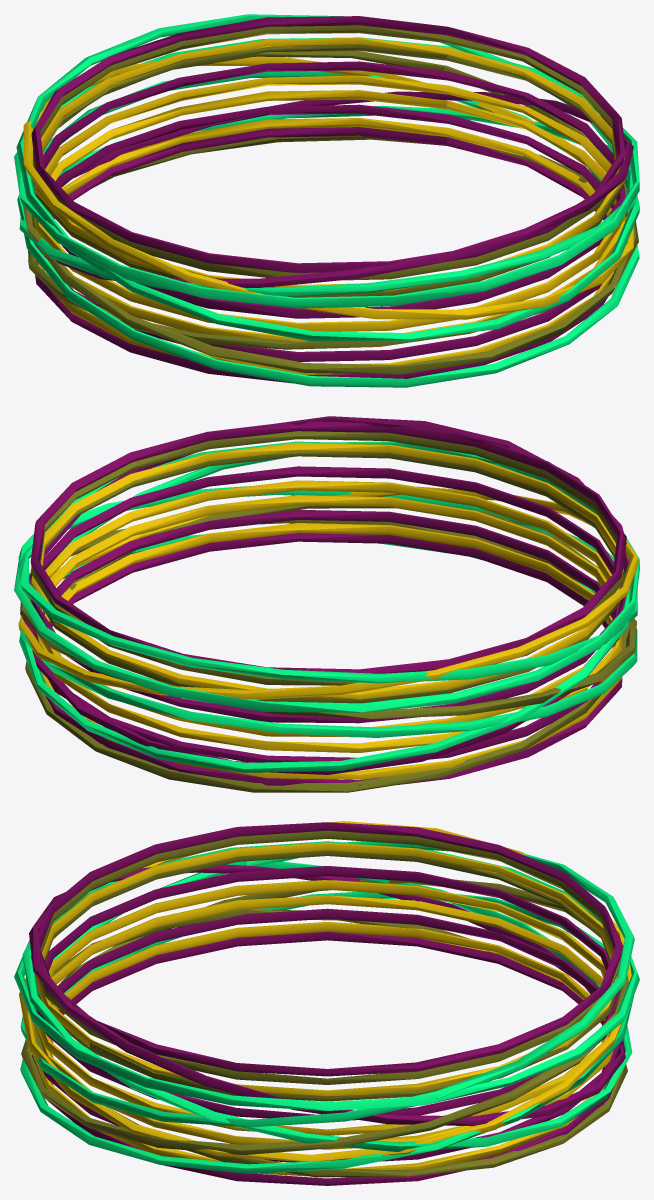
Rendered from shield_1.obj.
3 views of the same model, one above another, from view 1: azimuth 30°, elevation 25°; view 2: azimuth 150°, elevation 25°; view 3: azimuth 270°, elevation 25° (orthographic).
Visible parts, largest first — view 1: pTorus1, pTorus8, pTorus5, pTorus18, pTorus9, pTorus12, pTorus16, pTorus11, pTorus2, pTorus10, pTorus13, pTorus6 (+6 smaller); view 2: pTorus1, pTorus10, pTorus18, pTorus17, pTorus12, pTorus5, pTorus13, pTorus7, pTorus14, pTorus16, pTorus8, pTorus15 (+6 smaller); view 3: pTorus1, pTorus8, pTorus18, pTorus2, pTorus17, pTorus5, pTorus10, pTorus14, pTorus16, pTorus13, pTorus9, pTorus3 (+6 smaller).
Part boxes in pixels (box(x1,y1,x2,y2)): pTorus1: box(31, 16, 625, 273); pTorus8: box(34, 75, 625, 331); pTorus5: box(16, 14, 639, 341); pTorus18: box(33, 61, 625, 318); pTorus9: box(23, 50, 638, 374); pTorus12: box(35, 104, 613, 361); pTorus16: box(14, 37, 639, 308); pTorus11: box(17, 71, 639, 387); pTorus2: box(33, 25, 624, 280); pTorus10: box(50, 90, 624, 341); pTorus13: box(35, 127, 607, 383); pTorus6: box(23, 56, 633, 319); pTorus1: box(30, 421, 626, 673); pTorus10: box(37, 495, 622, 752); pTorus18: box(31, 466, 623, 723); pTorus17: box(31, 442, 623, 698); pTorus12: box(43, 509, 613, 762); pTorus5: box(18, 486, 637, 683); pTorus13: box(45, 533, 622, 785); pTorus7: box(19, 441, 639, 772); pTorus14: box(41, 523, 621, 779); pTorus16: box(14, 441, 639, 712); pTorus8: box(34, 480, 621, 737); pTorus15: box(25, 499, 630, 792); pTorus1: box(38, 822, 623, 1076); pTorus8: box(37, 880, 608, 1135); pTorus18: box(36, 866, 619, 1120); pTorus2: box(30, 830, 620, 1084); pTorus17: box(35, 842, 616, 1096); pTorus5: box(20, 841, 634, 1127); pTorus10: box(36, 895, 613, 1149); pTorus14: box(32, 922, 605, 1176); pTorus16: box(14, 841, 639, 1110); pTorus13: box(32, 932, 613, 1185); pTorus9: box(21, 879, 628, 1154); pTorus3: box(29, 864, 625, 1126).
Size of the model in its own units: 2.14 by 0.4903 by 2.13.
